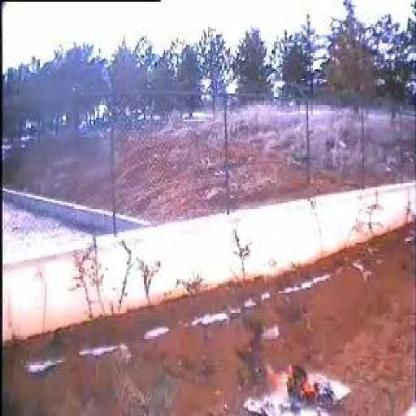foggia-v2-map80-epoch100 - v1 4323: (266, 368, 294, 388)
